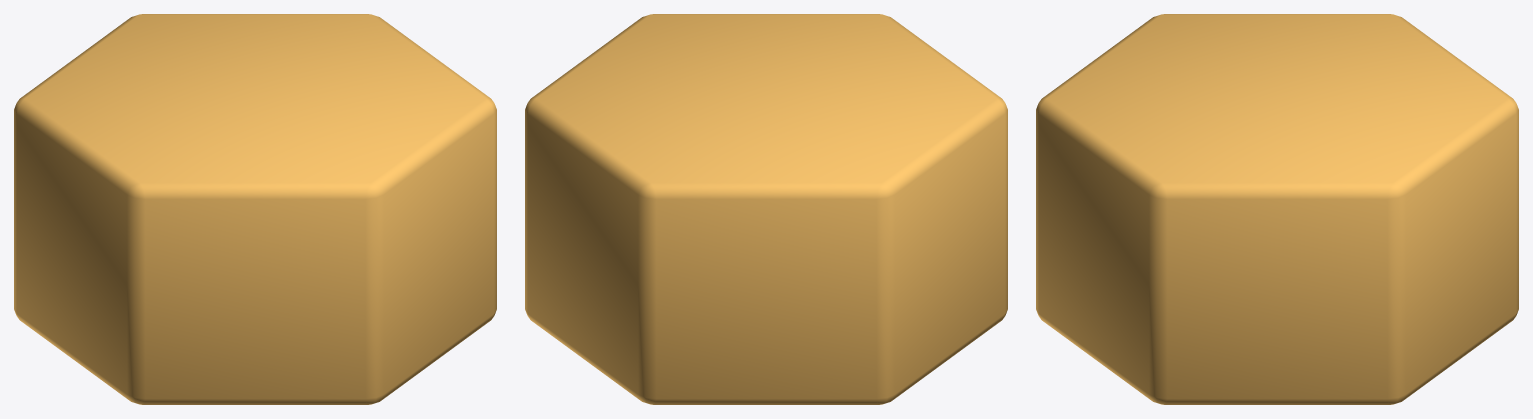
File: sand.glb
The picture shows the model from 3 angles, left to right: view 1: azimuth 30°, elevation 25°; view 2: azimuth 150°, elevation 25°; view 3: azimuth 270°, elevation 25°; orthographic projection.
Visible parts, largest first — view 1: sand; view 2: sand; view 3: sand.
Part boxes in pixels (box(x1,y1,x2,y2)): sand: box(14, 14, 496, 404); sand: box(525, 14, 1007, 404); sand: box(1036, 14, 1518, 404).
Bounding box in the file's own units: 6.93 × 4 × 7.9.
